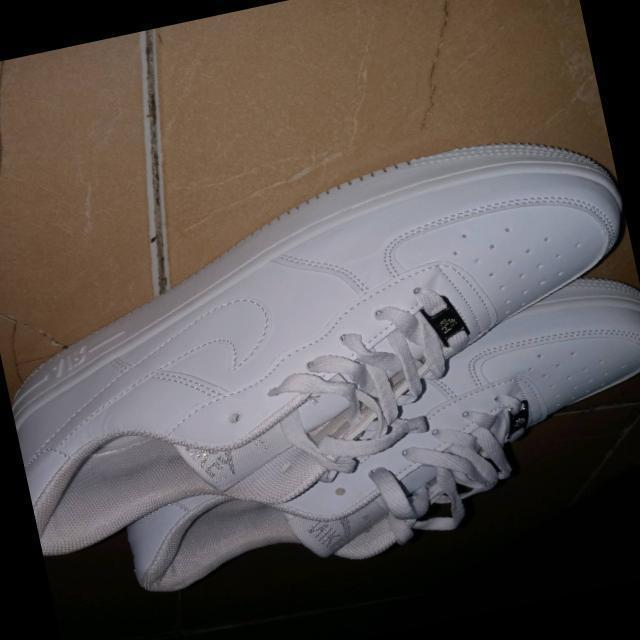nike fake air force: (0, 115, 640, 575), (85, 262, 640, 606)
